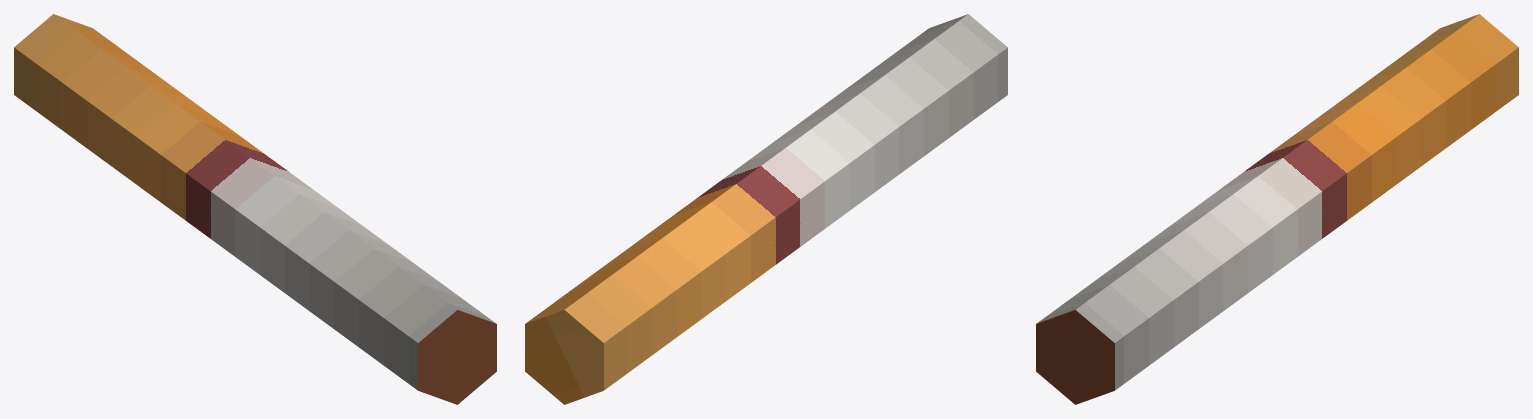
The model's file is Cigarette3.fbx.
The picture shows the model from 3 angles, left to right: view 1: azimuth 30°, elevation 25°; view 2: azimuth 150°, elevation 25°; view 3: azimuth 330°, elevation 25°; orthographic projection.
Visible parts, largest first — view 1: Cigarette3; view 2: Cigarette3; view 3: Cigarette3.
Boxes of the visible parts, x1,y1,x2,y2 form: Cigarette3: (14,14,496,404); Cigarette3: (525,14,1007,404); Cigarette3: (1036,14,1518,404).
Size of the model in its own units: 0.00557 by 0.00644 by 0.0495.
Materials: 1 (1 with a texture image).
